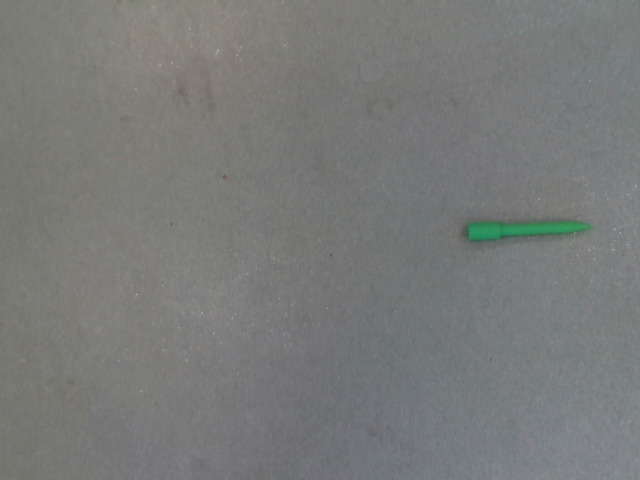Probe: (462, 216, 599, 246)
